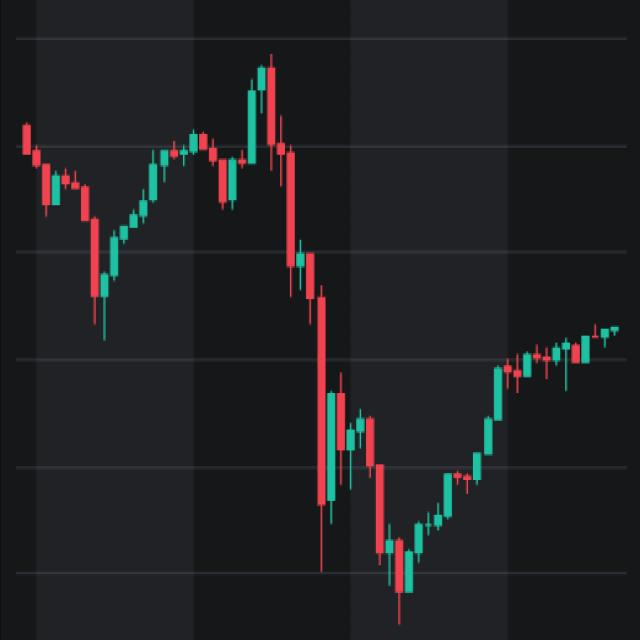Rising-Wedge: (291, 299, 638, 640)
